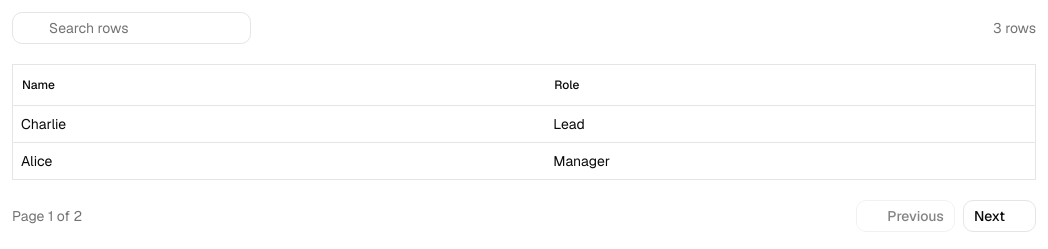
Scenario: DataTable › filters rows with client-side search
This screenshot has width=1048, height=249.
Type "alice" into the field with placeholder "Search rows". click: coordinates (132, 28)
box: 12,12 -> 251,44
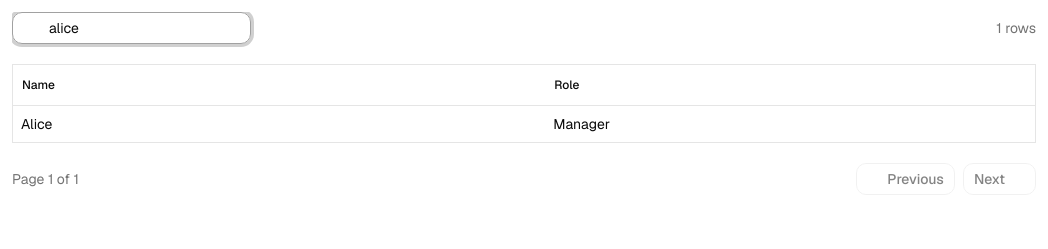
Expected: the text "Alice" is shown, 13,105 -> 545,142
Expected: the text "Charlie" is gone
Expected: the text "1 rows" is shown, 996,18 -> 1036,38
